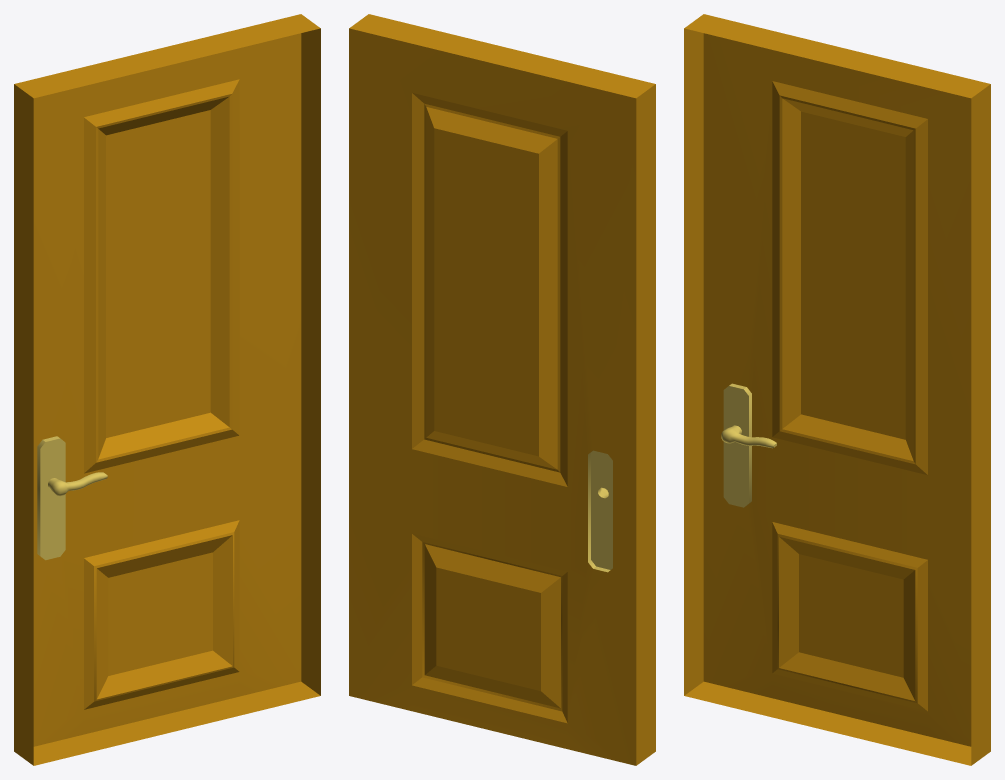
File: puerta_falsa.fbx
3 renders of one model, left to right at view 1: azimuth 30°, elevation 25°; view 2: azimuth 150°, elevation 25°; view 3: azimuth 330°, elevation 25°, orthographic.
Parts seen in each view (by area): view 1: puerta_falsa; view 2: puerta_falsa; view 3: puerta_falsa.
Part boxes in pixels (x1,y1,x2,y2): puerta_falsa: (14, 14, 320, 765); puerta_falsa: (349, 14, 655, 765); puerta_falsa: (684, 14, 990, 765).
Size of the model in its own units: 135 by 300 by 18.19.
